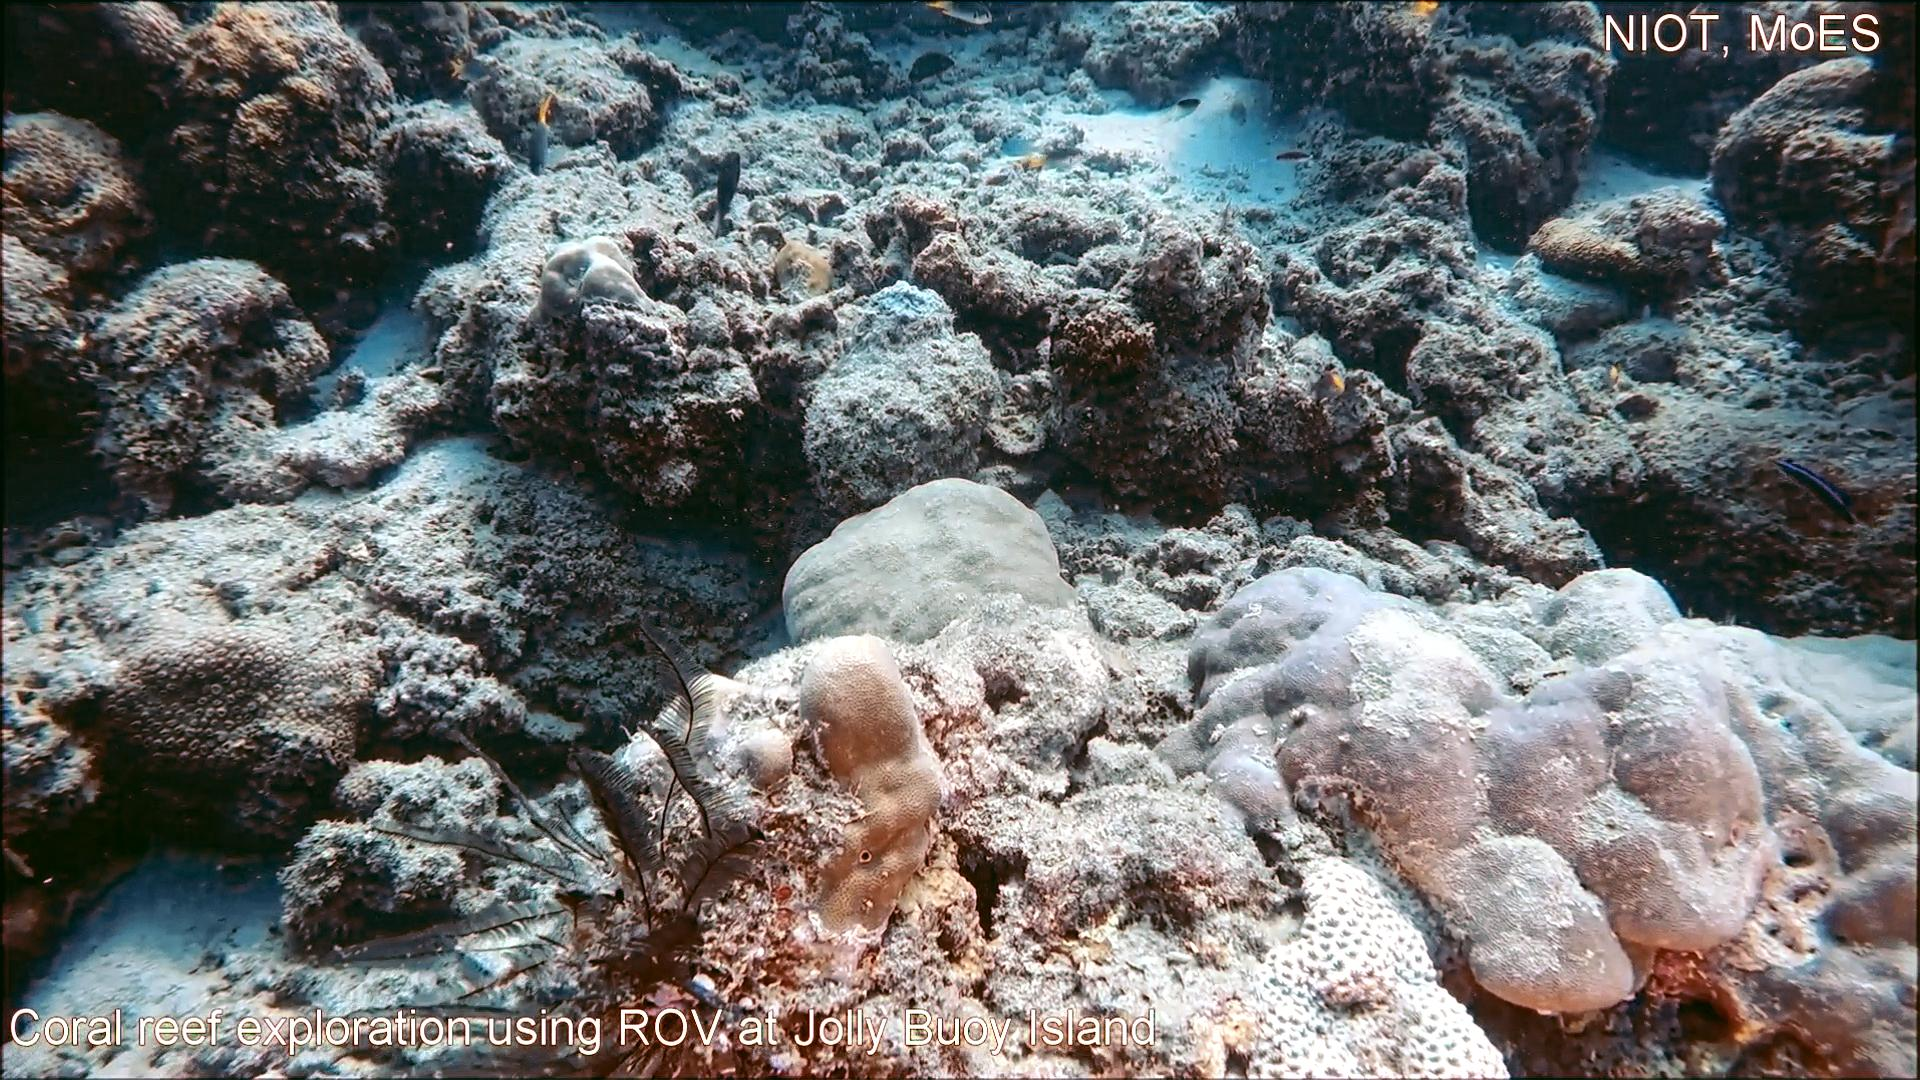Feather star-Crinoid star: (268, 604, 787, 1080)
Goniastrea-Goniastrea pectinata: (1244, 844, 1525, 1080)
Porites-Porites pukoensis: (1606, 560, 1920, 1080)
Turbinaria-Turbinaria stellulata: (86, 614, 394, 797)
